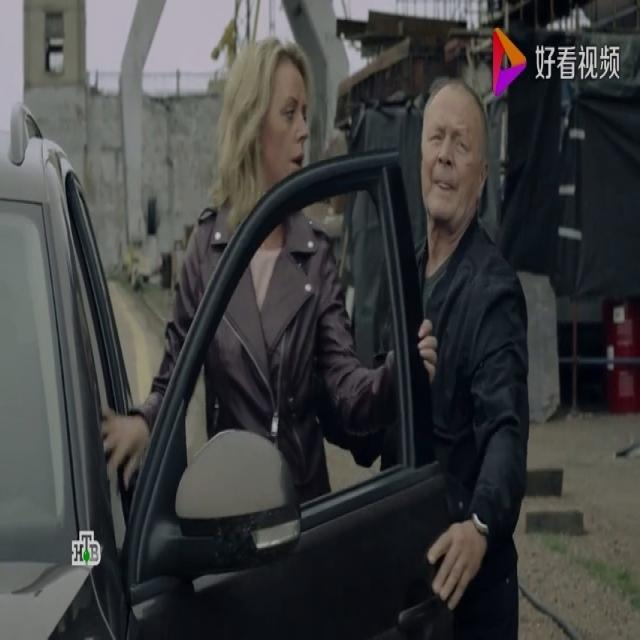non-fight: (94, 0, 440, 640), (382, 67, 560, 637)
